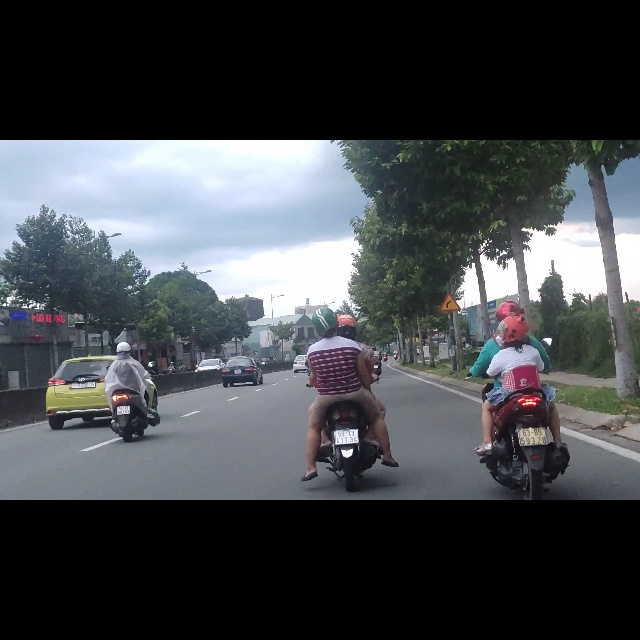bien_nguy_hiem: (439, 271, 462, 306)
